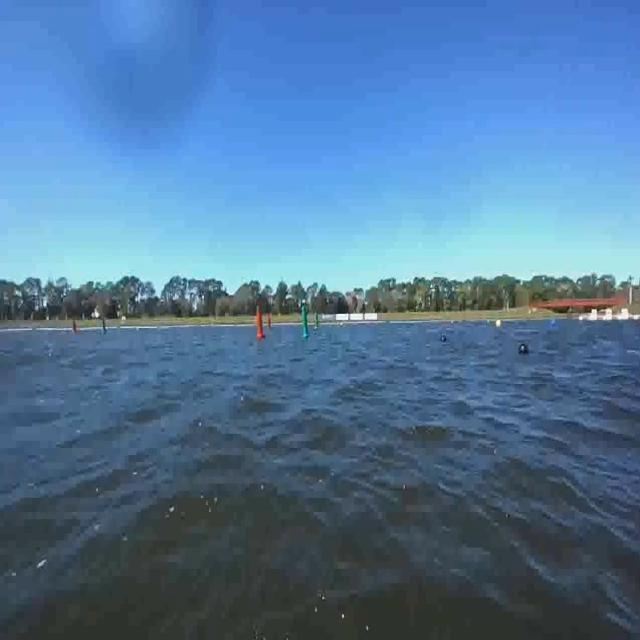green-column-buoy: (299, 300, 310, 341), (99, 318, 106, 337), (313, 309, 319, 329)
red-column-buoy: (255, 312, 265, 338)
